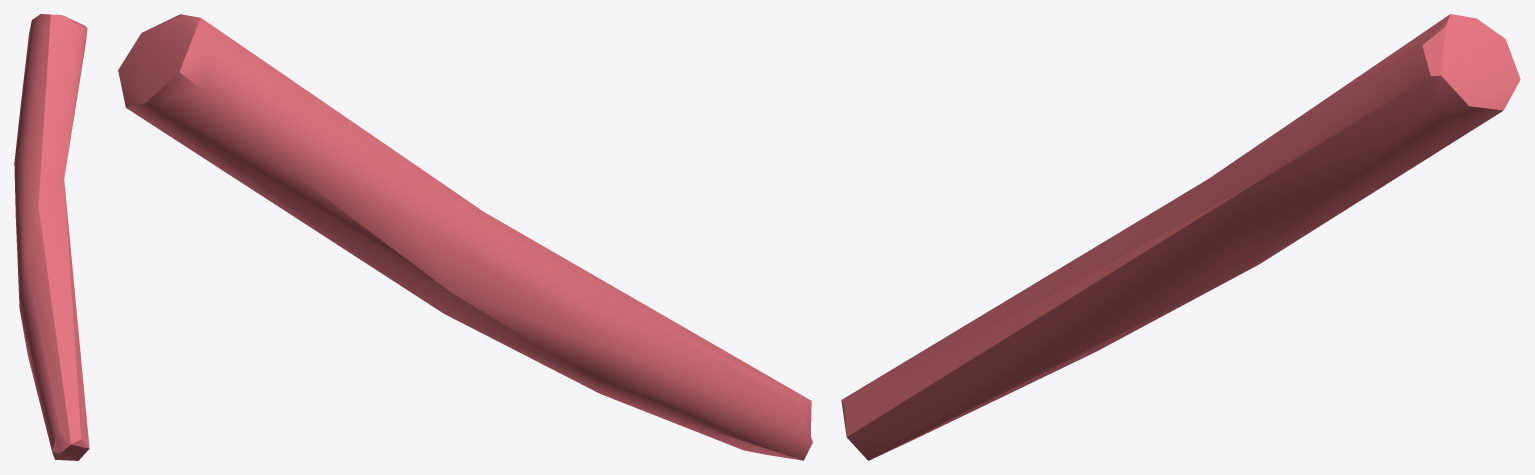
Rendered from fma68194_fj6055.glb.
3 renders of one model, left to right at view 1: azimuth 30°, elevation 25°; view 2: azimuth 150°, elevation 25°; view 3: azimuth 270°, elevation 25°, orthographic. The views are drawn at different scales.
Parts seen in each view (by area): view 1: FMA68194_FJ6055; view 2: FMA68194_FJ6055; view 3: FMA68194_FJ6055.
Boxes of the visible parts, x1,y1,x2,y2 form: FMA68194_FJ6055: (14, 14, 89, 460); FMA68194_FJ6055: (118, 14, 812, 460); FMA68194_FJ6055: (841, 14, 1520, 460).
Bounding box in the file's own units: 0.0117 × 0.0178 × 0.0194.
